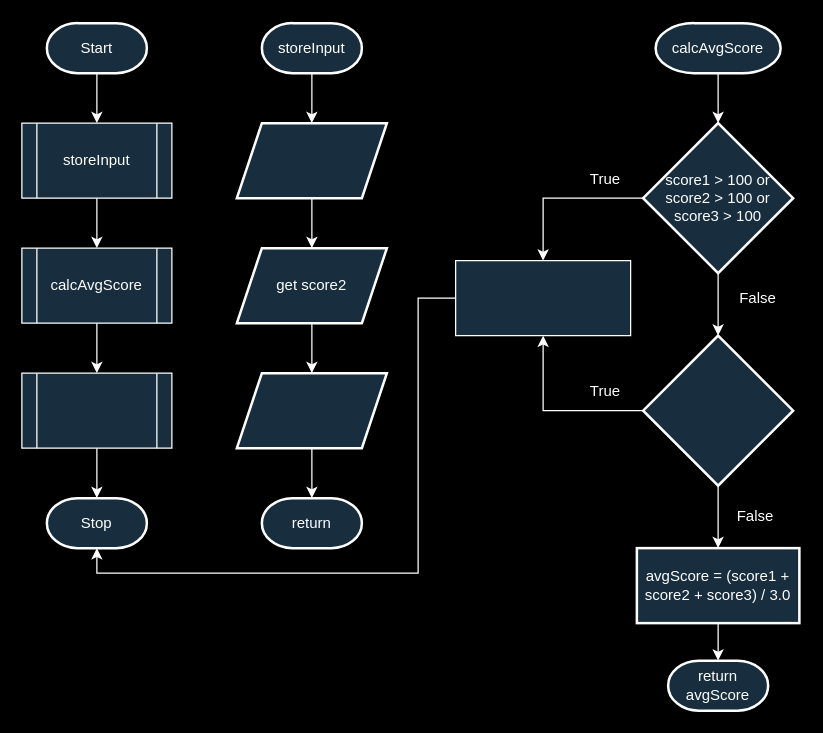
The diagram is 823 pixels wide and 733 high, and some of its shapes have lost their labels. Each missing label, with the centre of its shape:
get score1: pixel 311 160
get score3: pixel 311 410
print "Score must only be between 0 to 100": pixel 542 297
printGrade: pixel 96 410
score1 < 0 or score2 < 0 or score3 < 0: pixel 717 410
